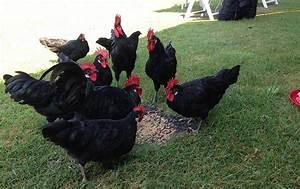hen: (39, 102, 152, 176), (4, 52, 96, 125), (162, 62, 255, 128), (96, 16, 147, 77), (140, 29, 187, 95), (32, 27, 95, 66)
